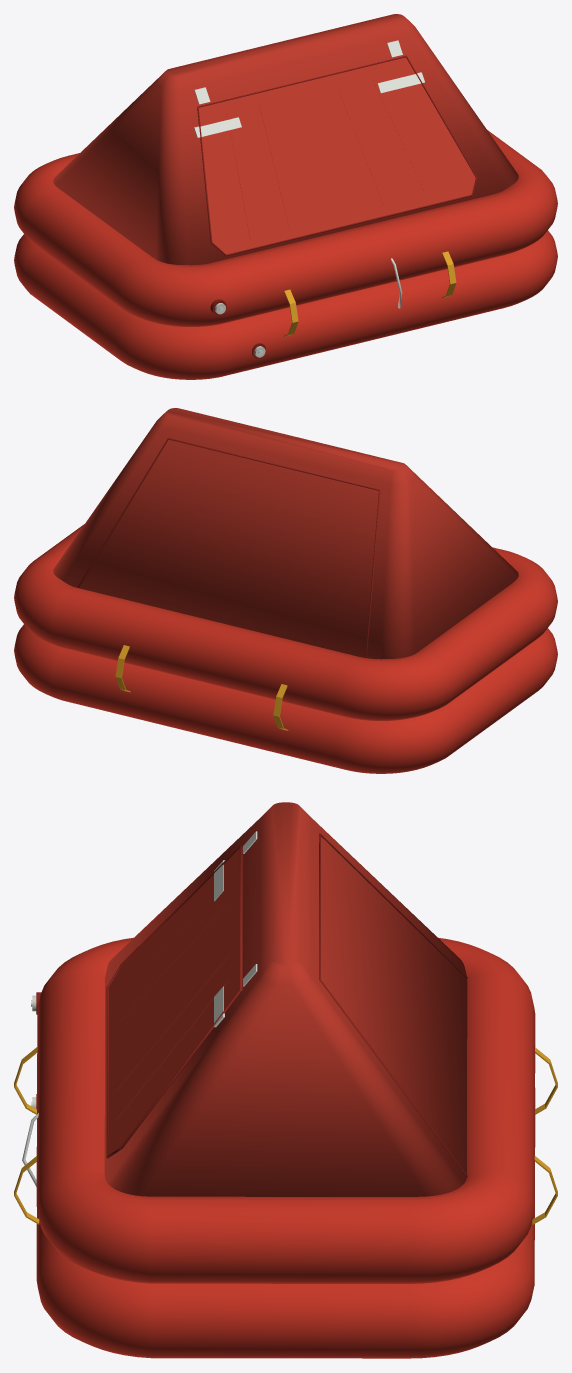
The picture shows the model from 3 angles, top to bottom: view 1: azimuth 30°, elevation 25°; view 2: azimuth 150°, elevation 25°; view 3: azimuth 270°, elevation 25°; orthographic projection. The views are drawn at different scales.
Parts seen in each view (by area): view 1: Closed upper inflated buoyancy tube, Closed front entrance flap, Closed ridge canopy, Closed lower inflated buoyancy tube, Closed flap perimeter seam, Pale front reflective strip 0, Pale front reflective strip 1; view 2: Closed ridge canopy, Closed upper inflated buoyancy tube, Closed lower inflated buoyancy tube, Generic rear panel seam; view 3: Closed ridge canopy, Closed upper inflated buoyancy tube, Closed lower inflated buoyancy tube, Closed front entrance flap, Closed flap perimeter seam, Generic rear panel seam.
Boxes of the visible parts, x1,y1,x2,y2 form: Closed upper inflated buoyancy tube: [14, 130, 557, 326]; Closed front entrance flap: [198, 57, 475, 254]; Closed ridge canopy: [53, 14, 518, 265]; Closed lower inflated buoyancy tube: [14, 230, 557, 379]; Closed flap perimeter seam: [197, 55, 477, 255]; Pale front reflective strip 0: [194, 117, 241, 137]; Pale front reflective strip 1: [377, 72, 424, 92]; Closed ridge canopy: [53, 408, 518, 659]; Closed upper inflated buoyancy tube: [14, 524, 557, 720]; Closed lower inflated buoyancy tube: [14, 624, 557, 773]; Generic rear panel seam: [77, 438, 380, 657]; Closed ridge canopy: [104, 802, 467, 1196]; Closed upper inflated buoyancy tube: [36, 937, 535, 1283]; Closed lower inflated buoyancy tube: [36, 1088, 535, 1358]; Closed front entrance flap: [108, 847, 242, 1154]; Closed flap perimeter seam: [106, 846, 241, 1158]; Generic rear panel seam: [319, 833, 467, 1177].
Bounding box in the file's own units: 274 × 146 × 212.
